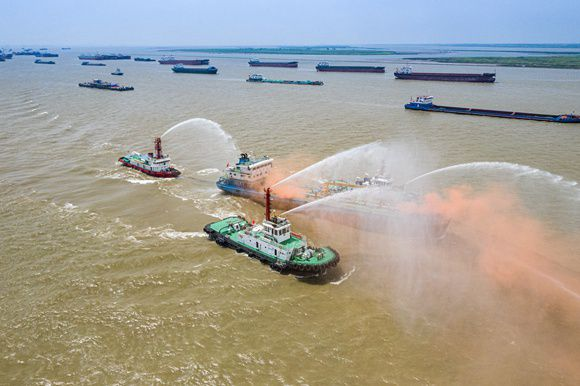Cargoship: (204, 152, 448, 237), (404, 94, 580, 127), (393, 62, 499, 86), (313, 59, 386, 73), (244, 55, 302, 70)
otherboat: (202, 188, 341, 274), (118, 139, 183, 177)
